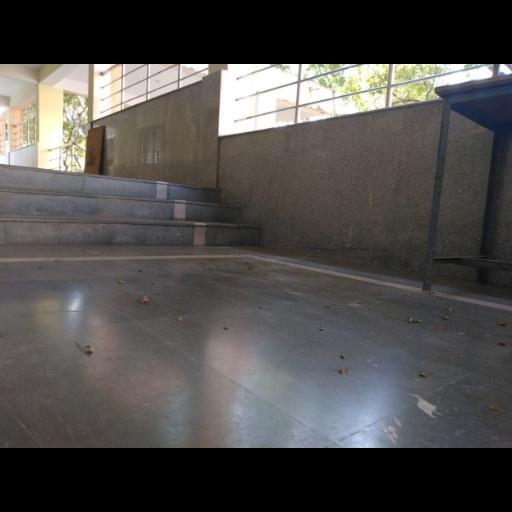stairs: (0, 165, 260, 245)
